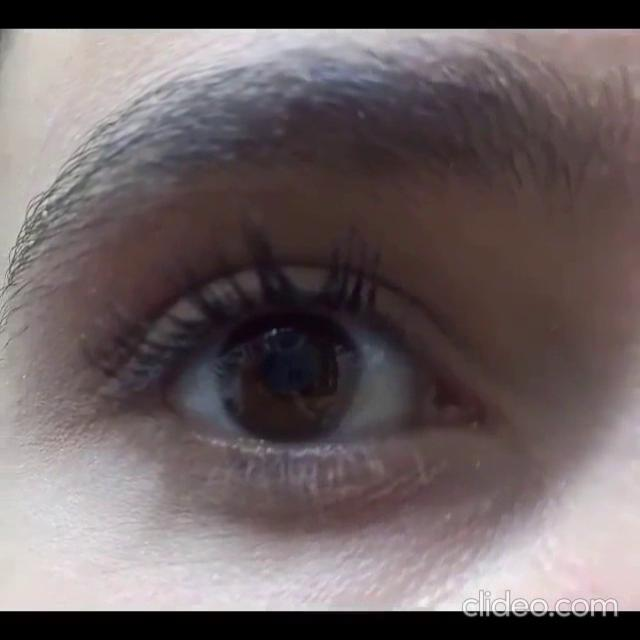iris: (218, 314, 361, 441)
pupille: (265, 349, 312, 394)
